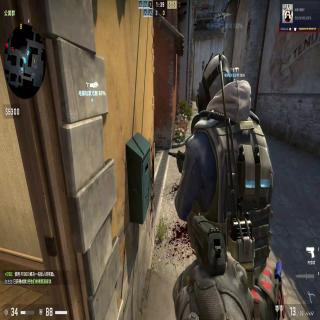CT-Head: (196, 51, 234, 112)
